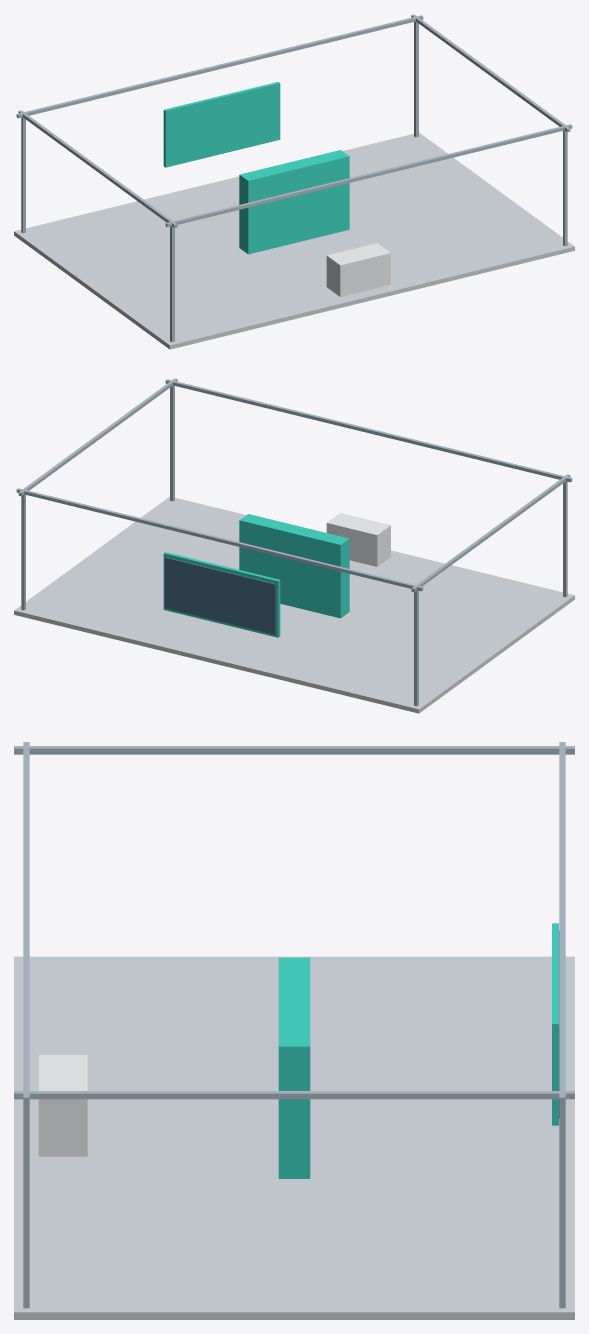
3 views of the same model, one above another, from view 1: azimuth 30°, elevation 25°; view 2: azimuth 150°, elevation 25°; view 3: azimuth 270°, elevation 25° (orthographic). The views are drawn at different scales.
Parts seen in each view (by area): view 1: Exhibition Booth Concept; view 2: Exhibition Booth Concept; view 3: Exhibition Booth Concept.
Boxes of the visible parts, <box> form: Exhibition Booth Concept: <box>14,14,574,349</box>; Exhibition Booth Concept: <box>14,378,574,713</box>; Exhibition Booth Concept: <box>14,742,574,1319</box>.
Size of the model in its own units: 12 by 3.49 by 8.
